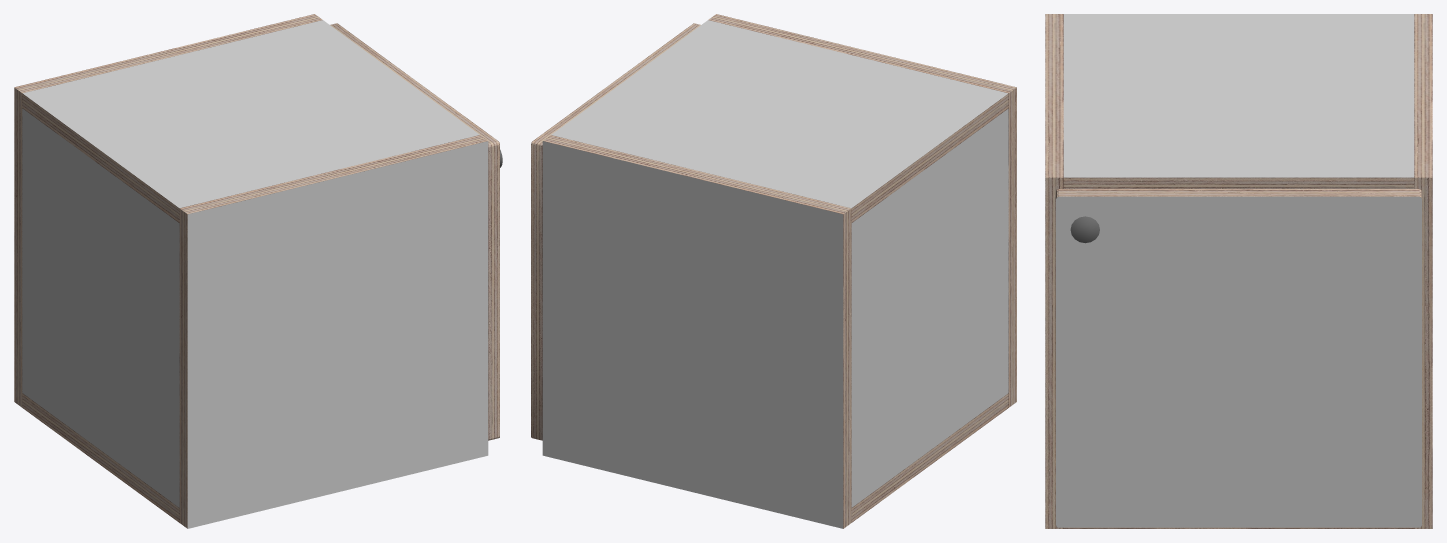
Rendered from Drawer Swing Closed.fbx.
3 renders of one model, left to right at view 1: azimuth 30°, elevation 25°; view 2: azimuth 150°, elevation 25°; view 3: azimuth 270°, elevation 25°, orthographic. The views are drawn at different scales.
Parts seen in each view (by area): view 1: Swing Drawer TL, Swing Drawer L, Swing Drawer BL, Swing Drawer T, Swing Drawer TR, Swing Drawer B, Swing Drawer C, Swing Drawer R, Swing Drawer BR; view 2: Swing Drawer TR, Swing Drawer R, Swing Drawer BR, Swing Drawer T, Swing Drawer TL, Swing Drawer B, Swing Drawer BL, Swing Drawer C, Swing Drawer L; view 3: Swing Drawer T, Swing Drawer TL, Swing Drawer TR, Swing Drawer C, Swing Drawer L, Swing Drawer R, Swing Drawer BL, Swing Drawer BR, Swing Drawer B.
Boxes of the visible parts, bbox=[...] form: Swing Drawer TL: bbox=[130, 98, 502, 318]; Swing Drawer L: bbox=[130, 238, 499, 423]; Swing Drawer BL: bbox=[130, 343, 499, 528]; Swing Drawer T: bbox=[72, 56, 446, 276]; Swing Drawer TR: bbox=[14, 14, 388, 233]; Swing Drawer B: bbox=[72, 339, 129, 486]; Swing Drawer C: bbox=[72, 235, 129, 381]; Swing Drawer R: bbox=[14, 192, 71, 338]; Swing Drawer BR: bbox=[14, 297, 71, 443]; Swing Drawer TR: bbox=[531, 98, 901, 319]; Swing Drawer R: bbox=[531, 238, 901, 423]; Swing Drawer BR: bbox=[531, 343, 901, 528]; Swing Drawer T: bbox=[584, 56, 958, 276]; Swing Drawer TL: bbox=[642, 14, 1016, 234]; Swing Drawer B: bbox=[901, 340, 958, 486]; Swing Drawer BL: bbox=[959, 297, 1016, 443]; Swing Drawer C: bbox=[901, 235, 958, 381]; Swing Drawer L: bbox=[959, 192, 1016, 338]; Swing Drawer T: bbox=[1174, 14, 1303, 303]; Swing Drawer TL: bbox=[1045, 14, 1174, 303]; Swing Drawer TR: bbox=[1303, 14, 1432, 303]; Swing Drawer C: bbox=[1174, 304, 1303, 420]; Swing Drawer L: bbox=[1045, 295, 1174, 420]; Swing Drawer R: bbox=[1303, 295, 1432, 420]; Swing Drawer BL: bbox=[1045, 412, 1174, 528]; Swing Drawer BR: bbox=[1303, 412, 1432, 528]; Swing Drawer B: bbox=[1174, 421, 1303, 528].
Size of the model in its own units: 43.75 by 40.01 by 40.
